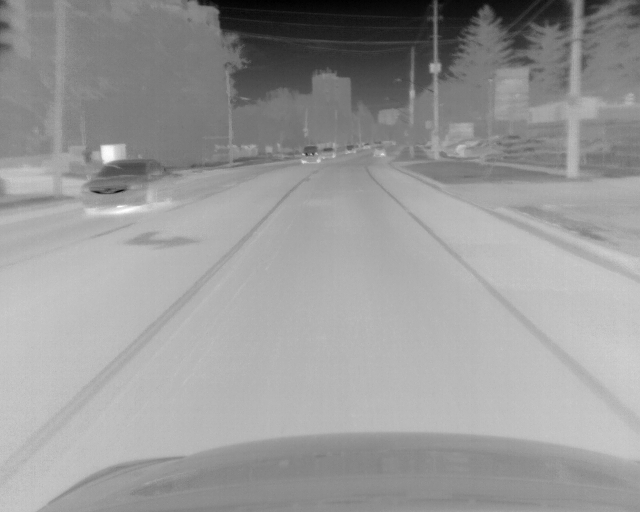car: (80, 157, 179, 213), (300, 145, 320, 164), (320, 148, 336, 161), (373, 146, 387, 159), (344, 145, 355, 155), (361, 142, 371, 150)
